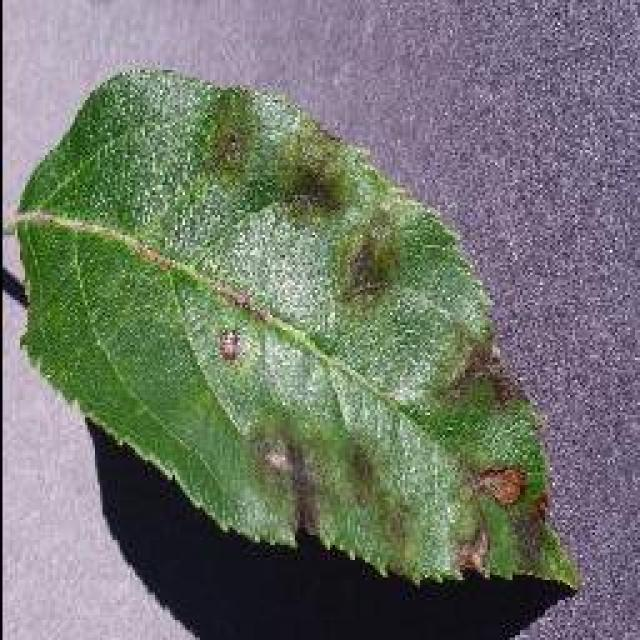apple scab disease: (8, 63, 580, 595)
